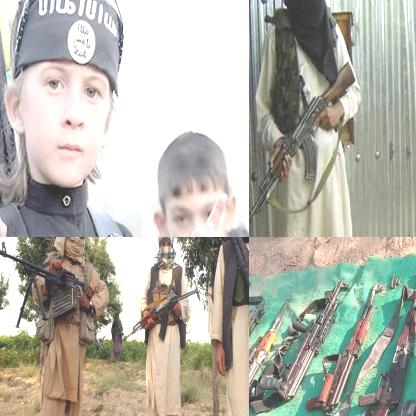pistol: (249, 293, 268, 355)
rifle: (249, 58, 357, 225), (259, 277, 345, 406), (343, 263, 415, 415), (307, 279, 383, 414), (0, 239, 96, 319), (377, 249, 415, 415), (118, 286, 199, 350), (249, 297, 290, 411)
